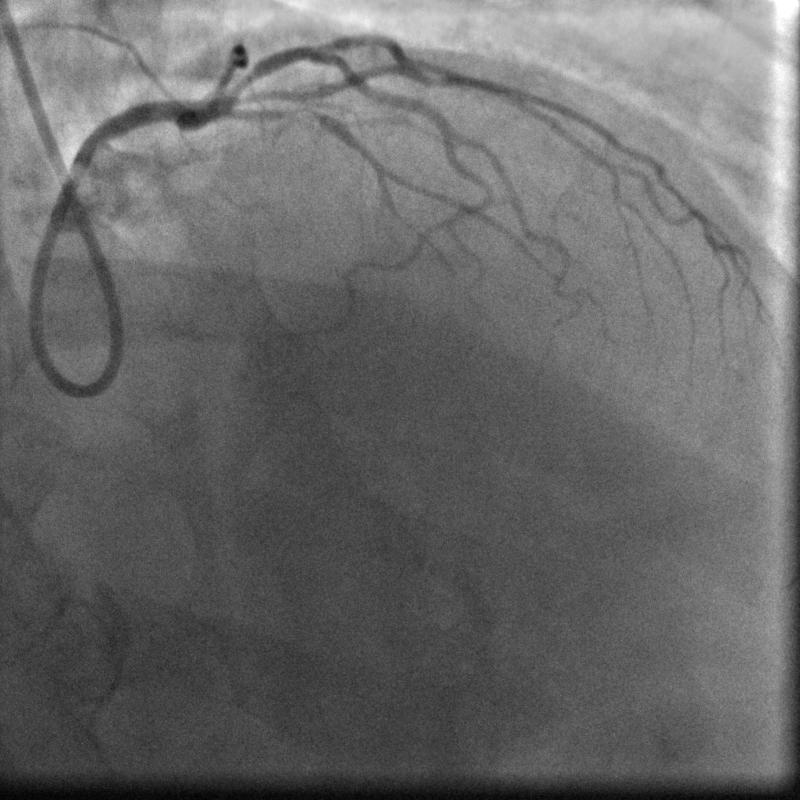Stenosis: (231, 71, 258, 95)
